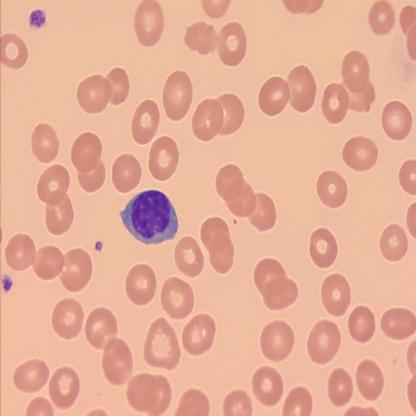Atypical lymphocyte: (119, 190, 180, 242)
